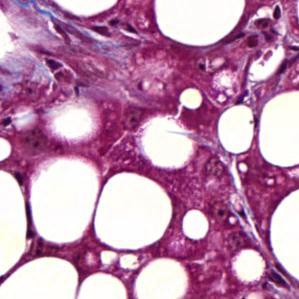steatosis: (98, 166, 178, 254), (32, 157, 101, 244), (184, 205, 212, 247)
